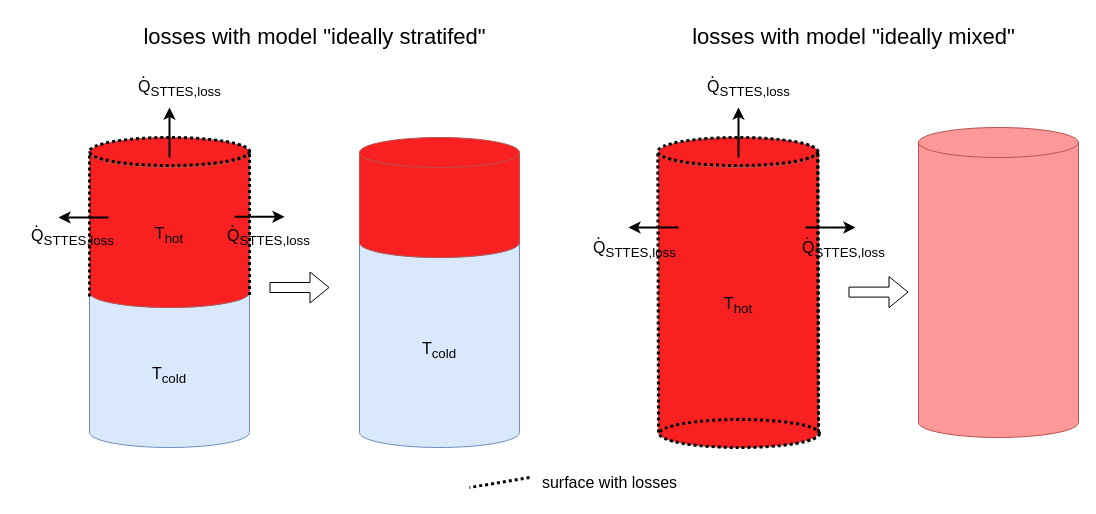
Image size: 1096x514. Some labels were removed from this diagram. Each missing label, with the centre of its shape:
T new < T hot: point 998,282
T new = T hot: point 439,197
